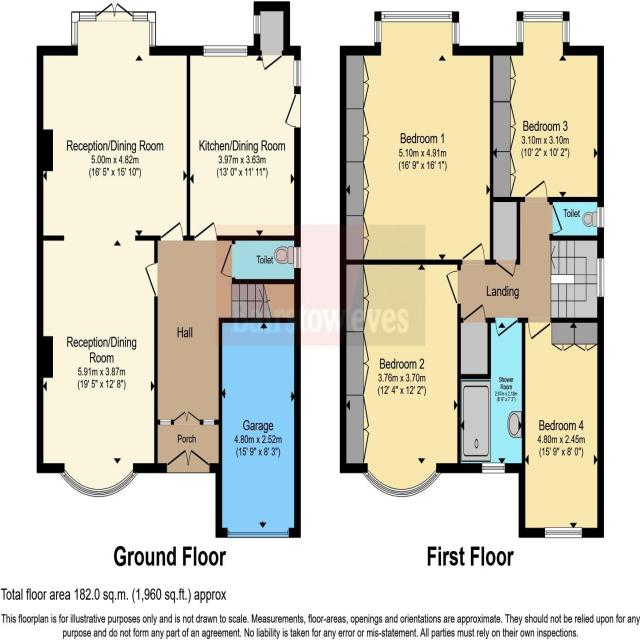DOOR: (282, 89, 301, 133), (458, 240, 487, 266), (521, 177, 549, 202), (526, 317, 553, 342), (445, 268, 461, 310), (218, 240, 234, 281), (158, 218, 185, 241), (142, 260, 158, 298), (192, 218, 218, 241), (461, 302, 488, 323), (173, 410, 200, 425)
DOUBLE DOOR: (95, 0, 133, 22)
ROOM: (35, 0, 190, 496), (338, 11, 493, 265), (339, 258, 461, 498), (186, 1, 301, 241), (489, 11, 605, 202), (518, 317, 604, 538)
WINDOW: (57, 466, 140, 500), (358, 467, 443, 499), (70, 9, 97, 48), (131, 9, 158, 48), (381, 10, 453, 24), (202, 42, 250, 59), (543, 526, 583, 541), (523, 9, 563, 24), (480, 460, 507, 475), (596, 256, 605, 299), (291, 57, 303, 88), (292, 243, 302, 272), (596, 204, 606, 231), (252, 13, 262, 36), (372, 20, 382, 43), (451, 22, 460, 46), (516, 19, 524, 43), (562, 20, 570, 44), (159, 418, 172, 426), (203, 418, 215, 426)
